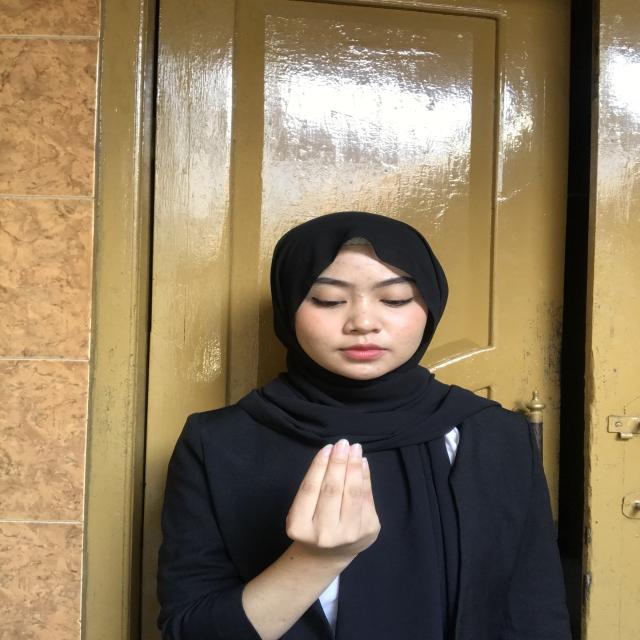kapan: (276, 427, 408, 591)
